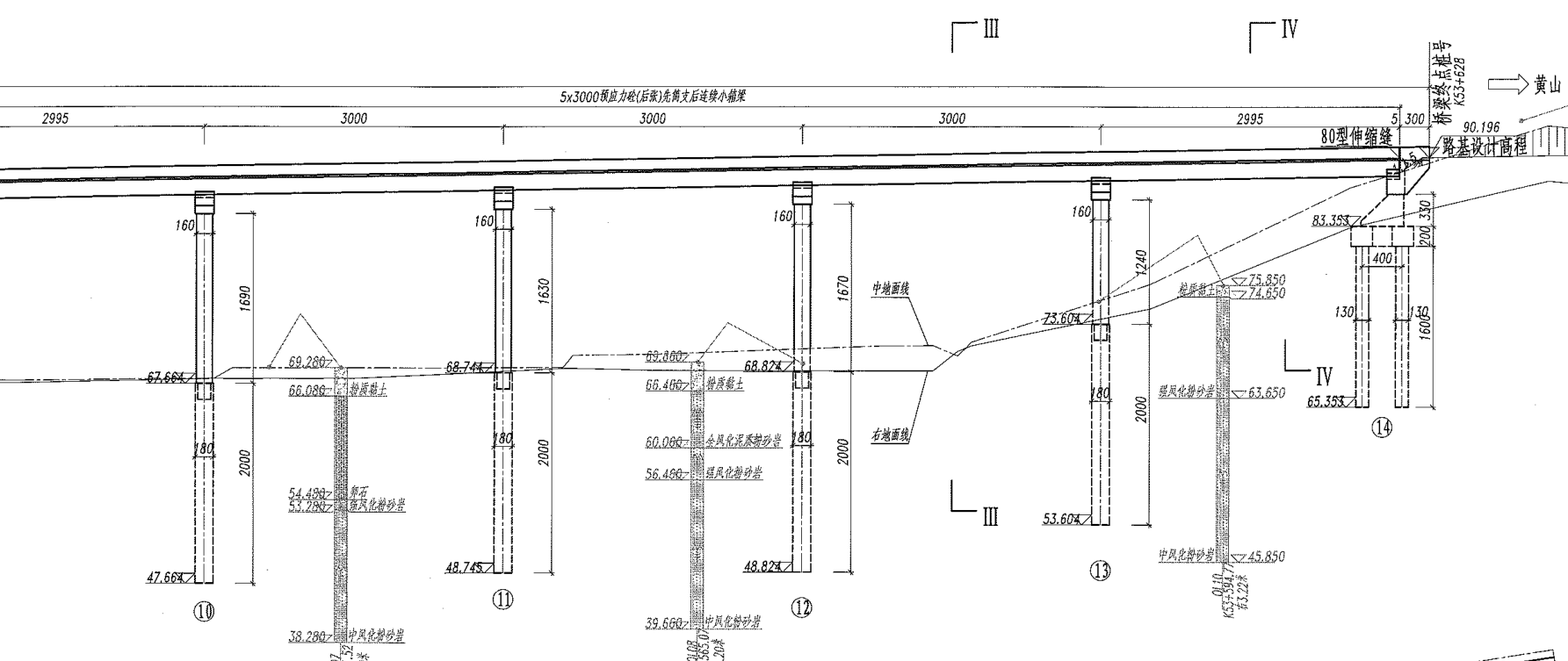B: (1, 89, 1406, 114)
C: (114, 198, 266, 625), (736, 172, 827, 629), (435, 183, 520, 615), (1036, 168, 1121, 590), (1299, 219, 1428, 450), (135, 183, 235, 459)
